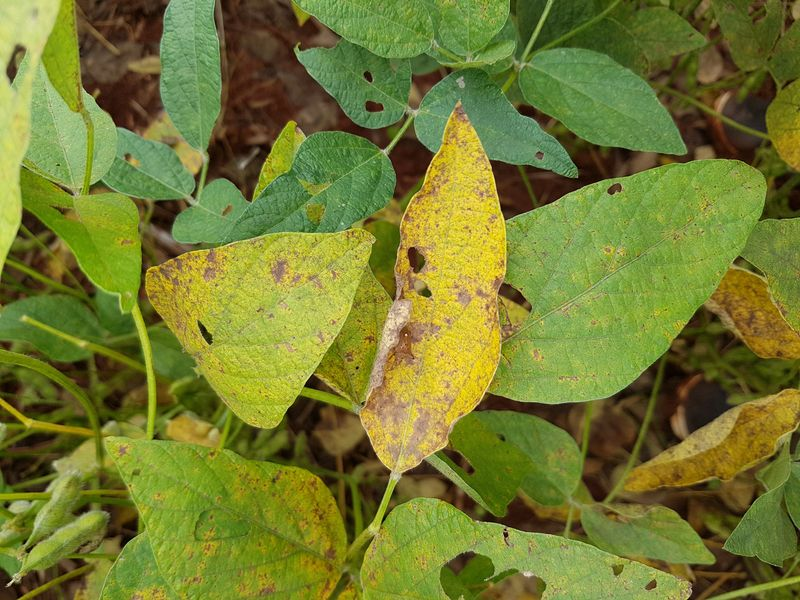Euschistus_heros_adulto: (384, 323, 424, 369)
